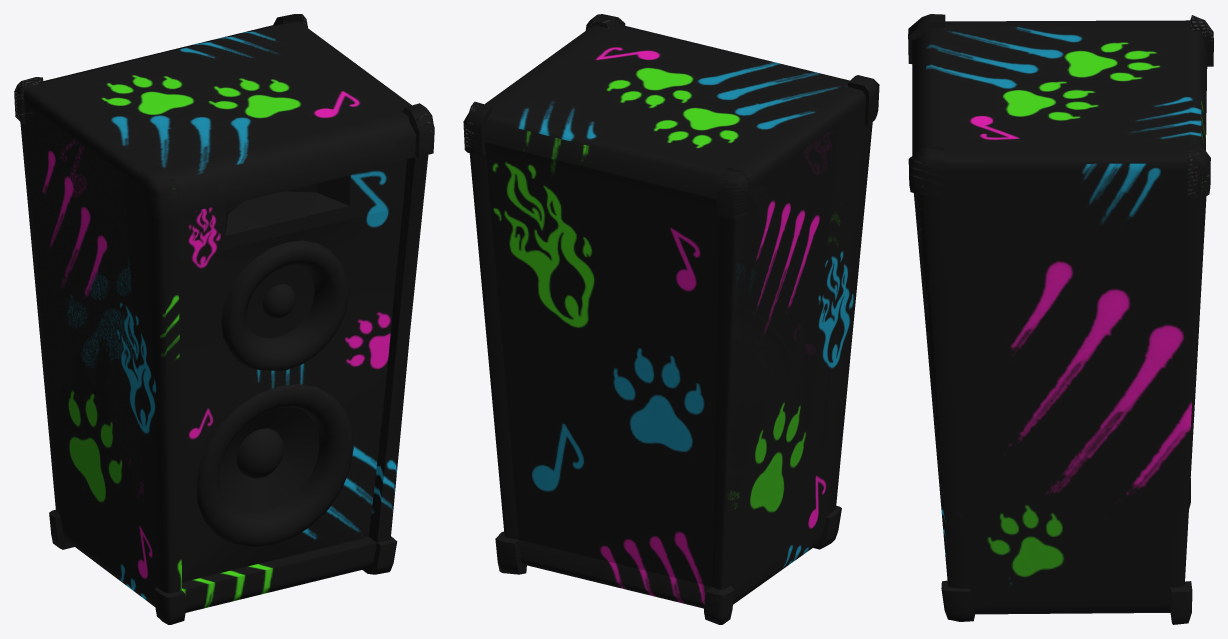
3 views of the same model, side by side, from view 1: azimuth 30°, elevation 25°; view 2: azimuth 150°, elevation 25°; view 3: azimuth 270°, elevation 25° (orthographic). The views are drawn at different scales.
Visible parts, largest first — view 1: g; view 2: g; view 3: g.
Part boxes in pixels (<box>): g: <box>14,14,434,624</box>; g: <box>463,14,879,624</box>; g: <box>908,14,1213,624</box>.
Size of the model in its own units: 1.27 by 2 by 1.14.
1 material, 1 textured.
